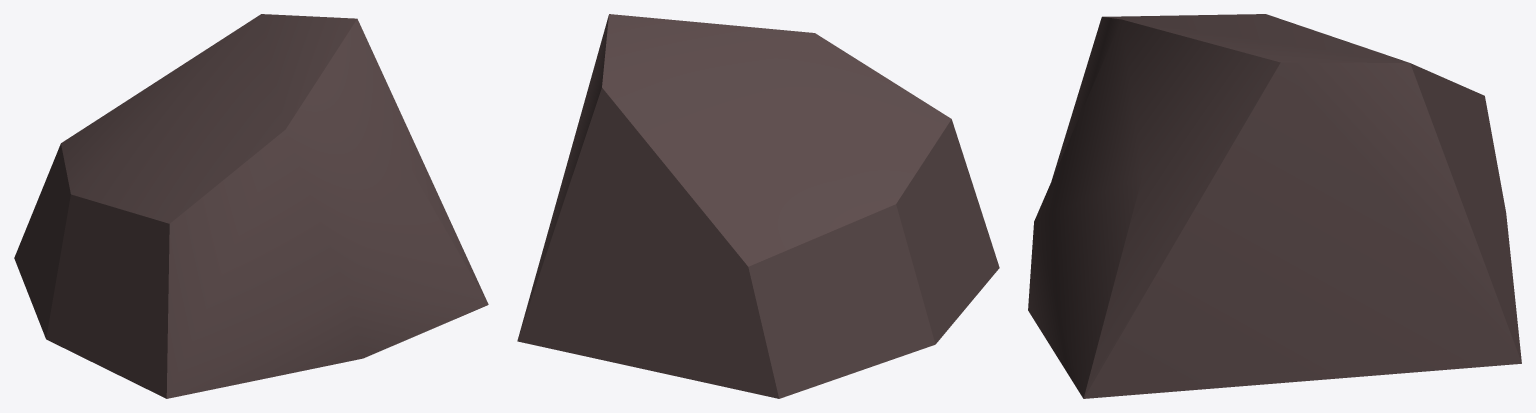
File: Rock_A.fbx
3 views of the same model, side by side, from view 1: azimuth 30°, elevation 25°; view 2: azimuth 150°, elevation 25°; view 3: azimuth 270°, elevation 25° (orthographic). The views are drawn at different scales.
Parts seen in each view (by area): view 1: Rock_A; view 2: Rock_A; view 3: Rock_A.
Part boxes in pixels (left/top/right/bottom): Rock_A: left=14, top=14, right=488, bottom=398; Rock_A: left=517, top=14, right=999, bottom=398; Rock_A: left=1028, top=14, right=1521, bottom=398.
Bounding box in the file's own units: 274 × 212 × 254.
